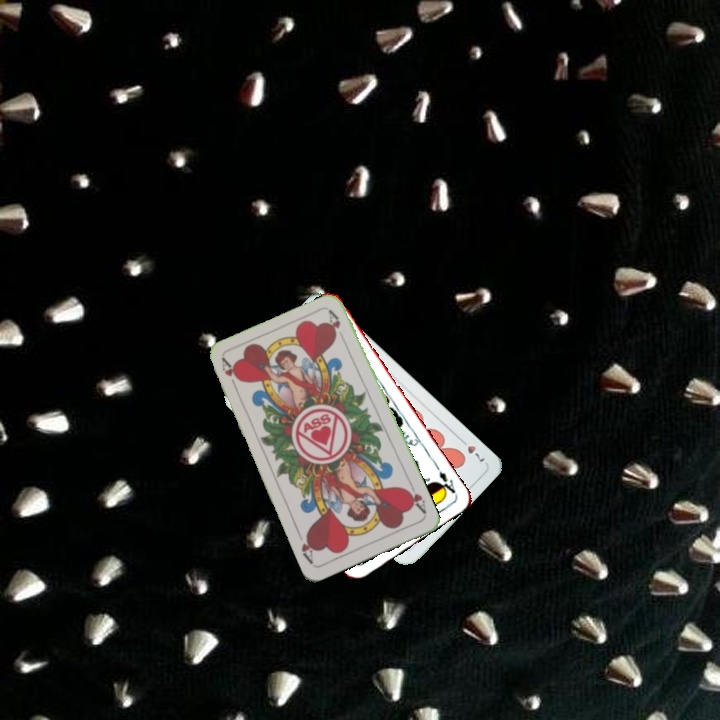EA: (433, 467, 459, 498)
H7: (455, 434, 488, 465)
HA: (401, 479, 429, 517), (217, 355, 244, 394)
